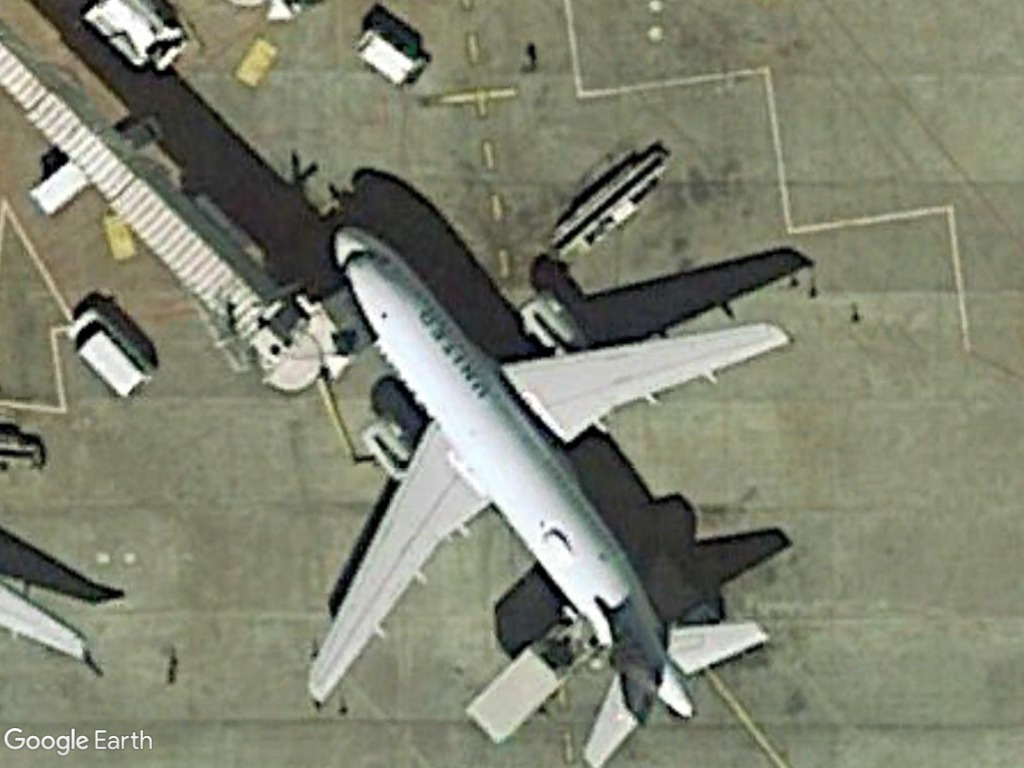airliner: (302, 215, 801, 768)
van: (65, 305, 156, 403)
